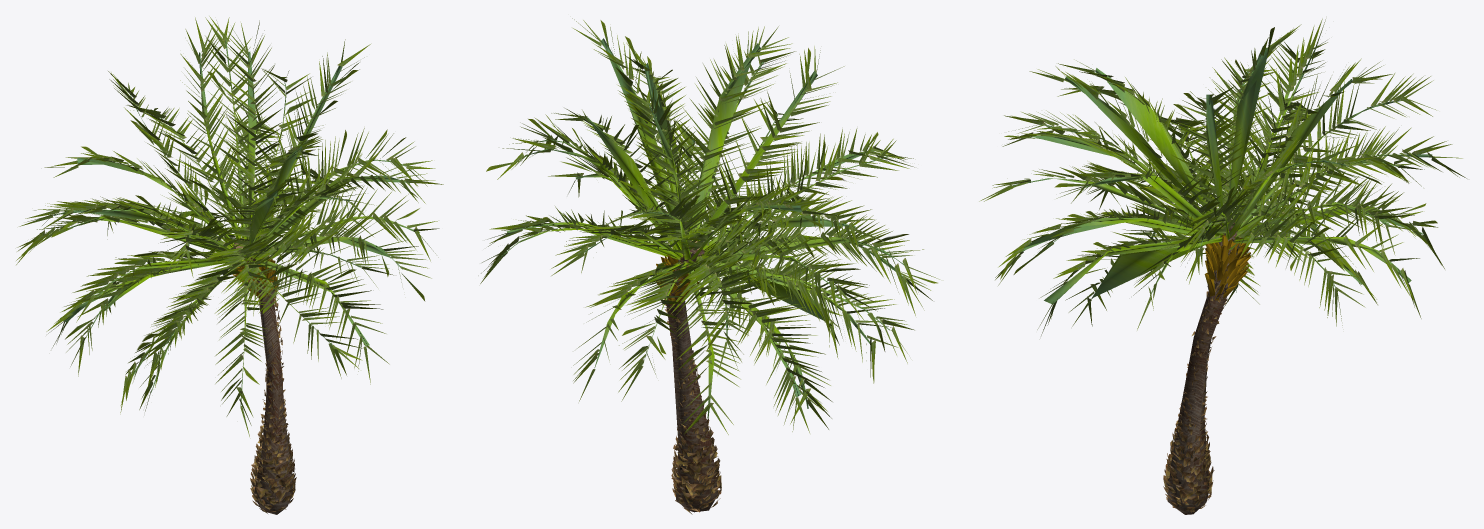
The model's file is phoenix_1_lod.glb.
3 views of the same model, side by side, from view 1: azimuth 30°, elevation 25°; view 2: azimuth 150°, elevation 25°; view 3: azimuth 270°, elevation 25° (orthographic). The views are drawn at different scales.
Visible parts, largest first — view 1: Phoenix_Sylvestris_Small03; view 2: Phoenix_Sylvestris_Small03; view 3: Phoenix_Sylvestris_Small03.
Boxes of the visible parts, x1,y1,x2,y2 form: Phoenix_Sylvestris_Small03: (16,16,443,514); Phoenix_Sylvestris_Small03: (478,18,939,514); Phoenix_Sylvestris_Small03: (979,18,1466,514).
Size of the model in its own units: 8.3 by 9.5 by 8.57.
6 materials, 6 textured.
